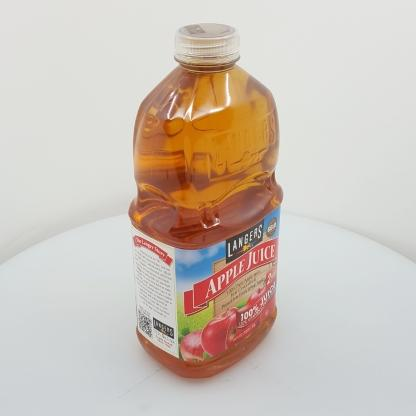-------------: (128, 23, 284, 379)
